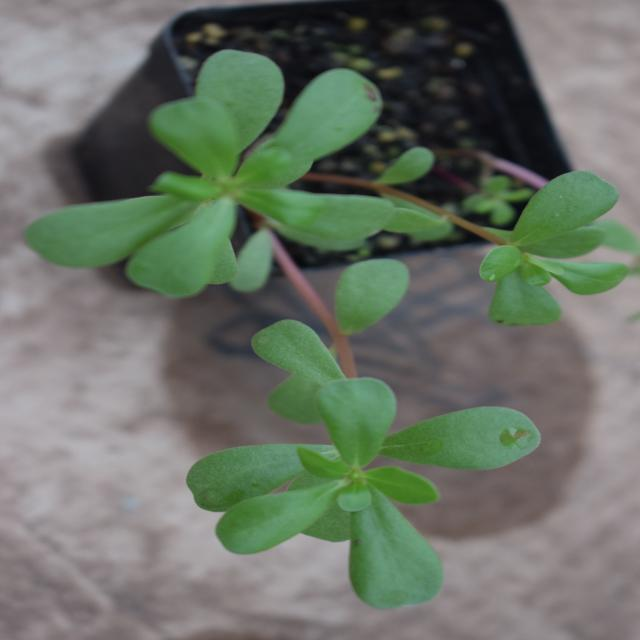purslane: (59, 0, 612, 572)
